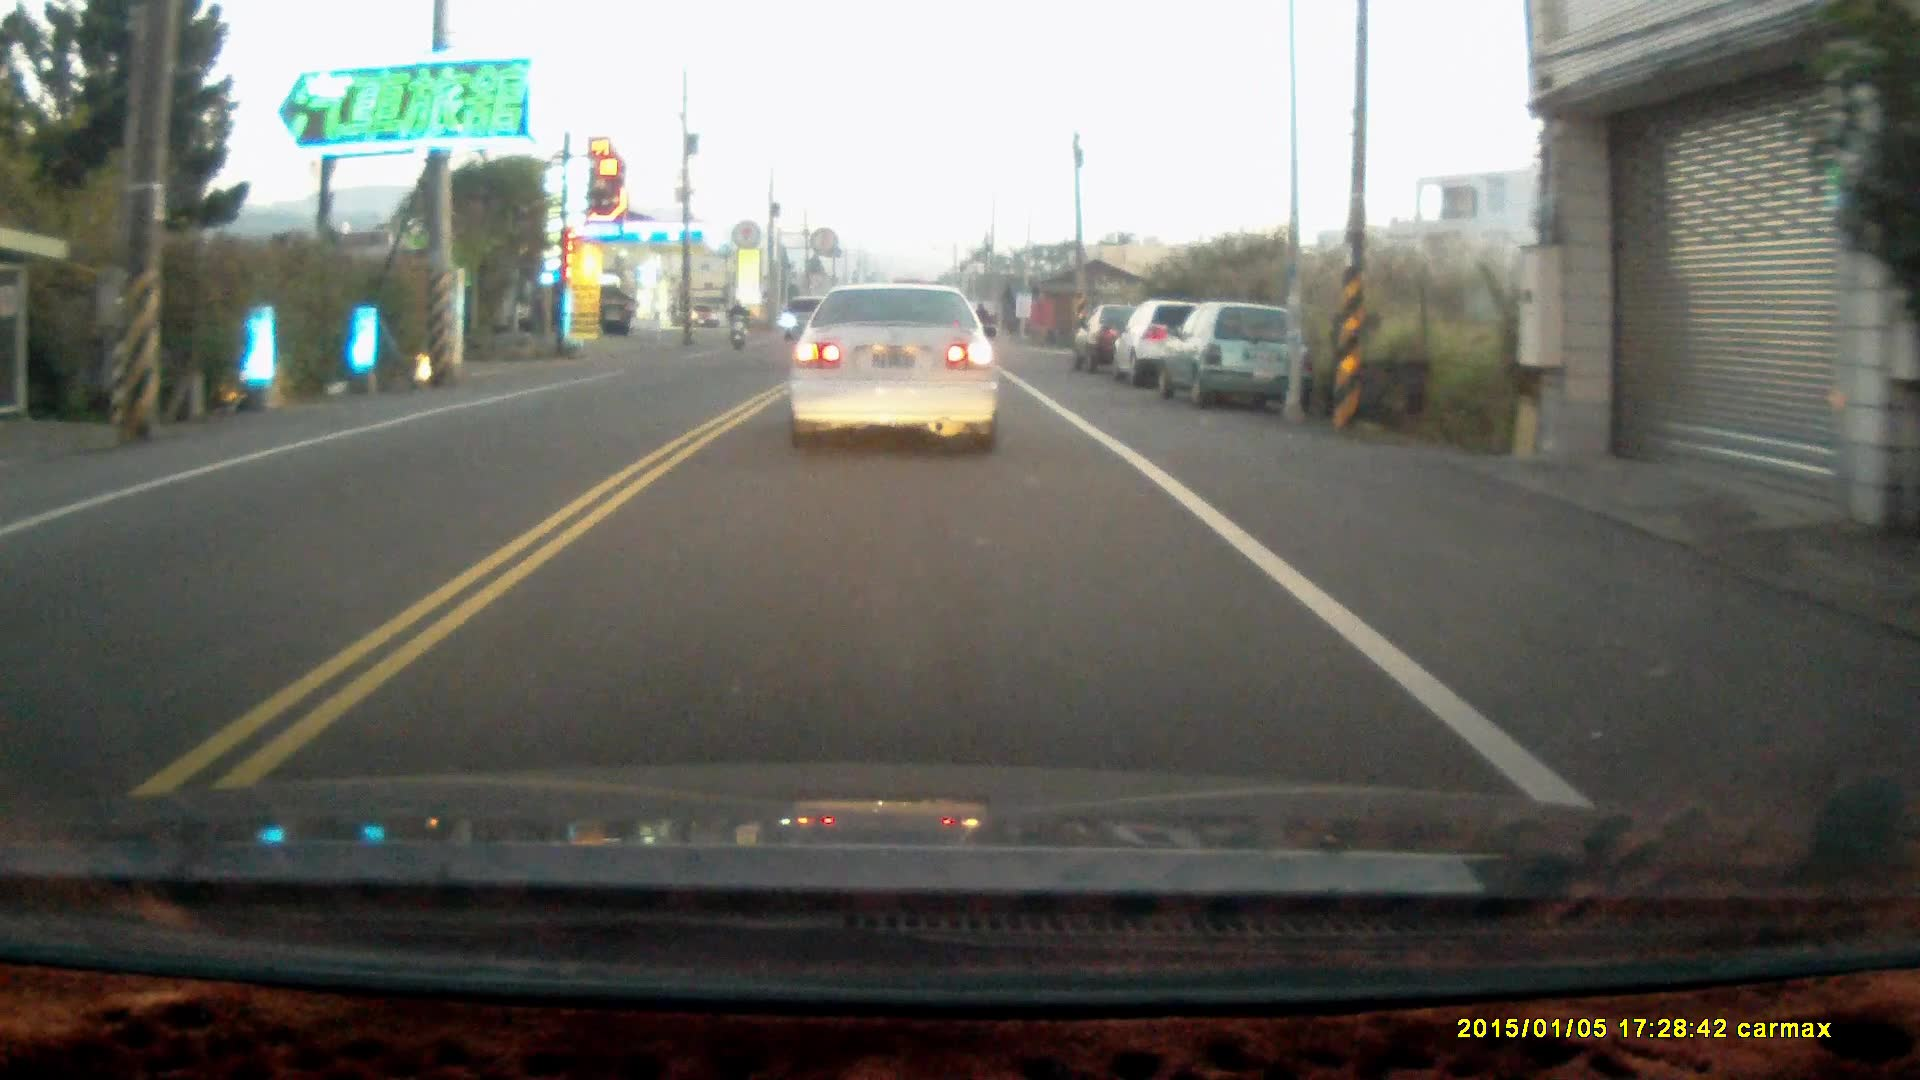rider: (726, 297, 748, 349)
vehicle: (781, 278, 1000, 459), (1166, 304, 1312, 409), (1117, 301, 1248, 391), (1072, 302, 1177, 379)
